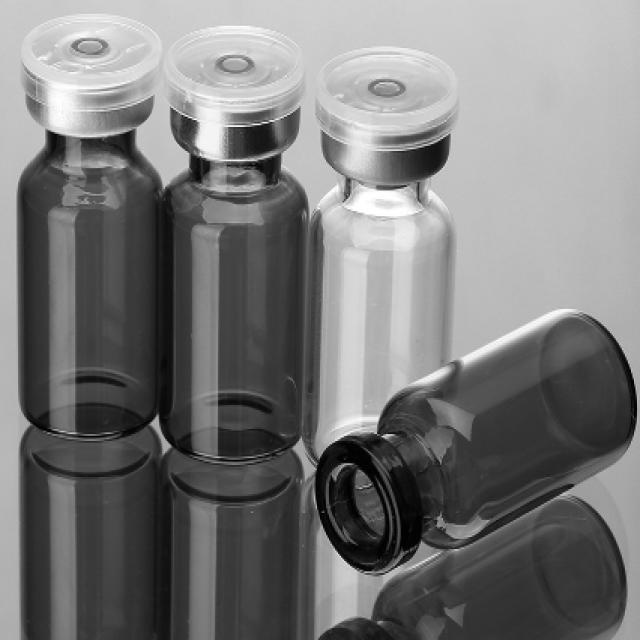vial: (323, 43, 449, 137), (176, 31, 290, 125), (318, 438, 408, 556), (33, 22, 144, 114)
